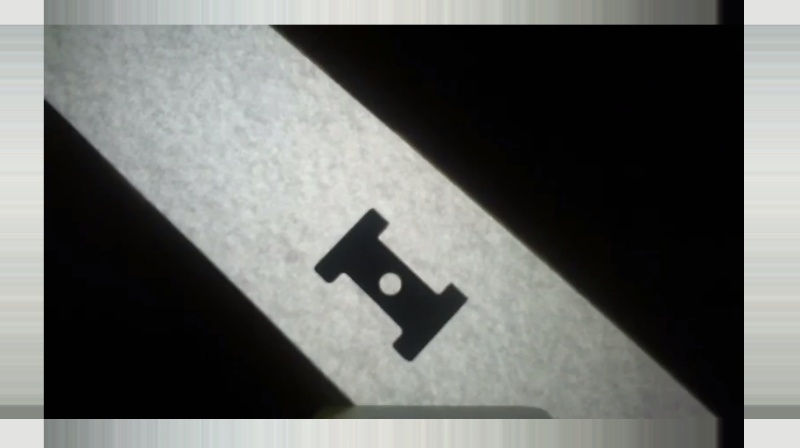O002: (309, 206, 470, 364)
